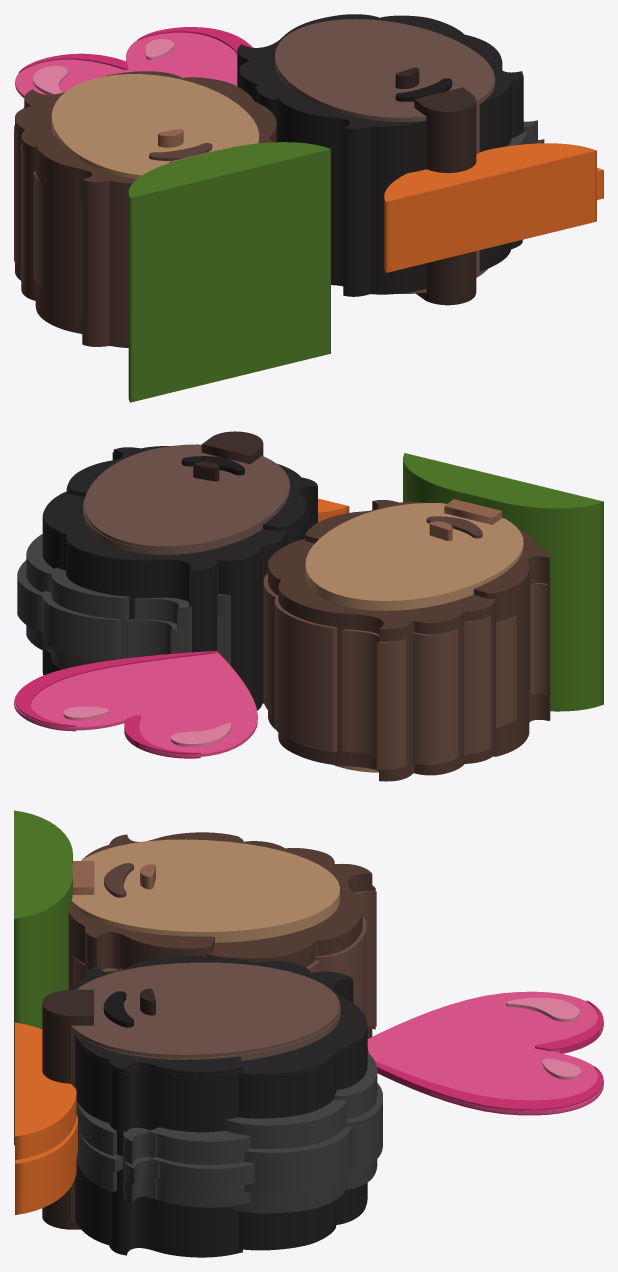
The model's file is emoji_u1f9d1_1f3fd_200d_2764_200d_1f9d1_1f3ff.glb.
3 views of the same model, one above another, from view 1: azimuth 30°, elevation 25°; view 2: azimuth 150°, elevation 25°; view 3: azimuth 270°, elevation 25° (orthographic). The views are drawn at different scales.
Visible parts, largest first — view 1: emoji_u1f9d1_1f3fd_200d_2764_200d_1f9d1_1f3ff; view 2: emoji_u1f9d1_1f3fd_200d_2764_200d_1f9d1_1f3ff; view 3: emoji_u1f9d1_1f3fd_200d_2764_200d_1f9d1_1f3ff.
Boxes of the visible parts, x1=… form: emoji_u1f9d1_1f3fd_200d_2764_200d_1f9d1_1f3ff: x1=14, y1=14, x2=603, y2=402; emoji_u1f9d1_1f3fd_200d_2764_200d_1f9d1_1f3ff: x1=14, y1=431, x2=603, y2=781; emoji_u1f9d1_1f3fd_200d_2764_200d_1f9d1_1f3ff: x1=14, y1=810, x2=603, y2=1257.
Size of the model in its own units: 0.035 by 0.0144 by 0.034.
